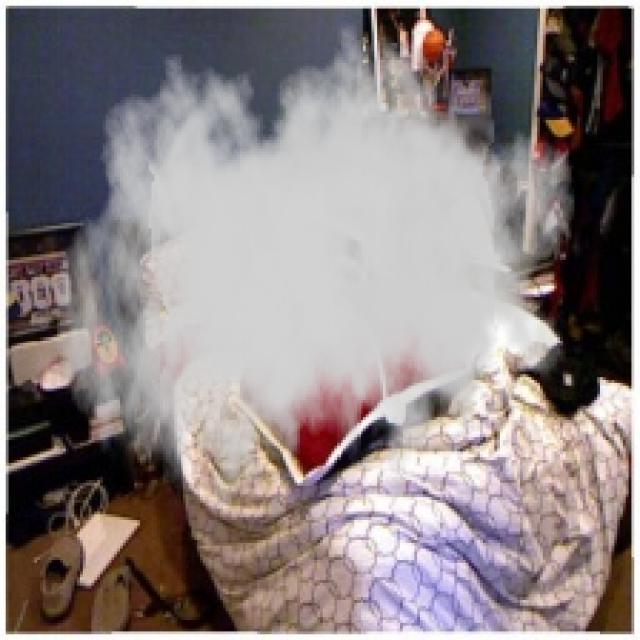smoke: (54, 14, 577, 540)
